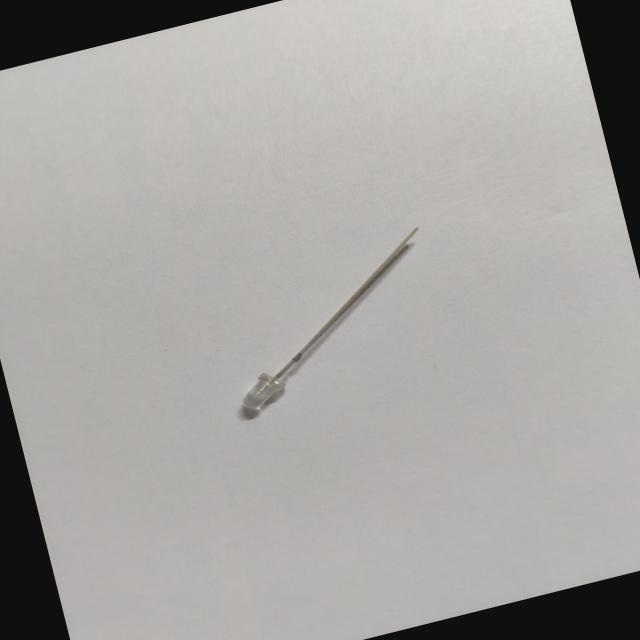led: (197, 212, 468, 430)
